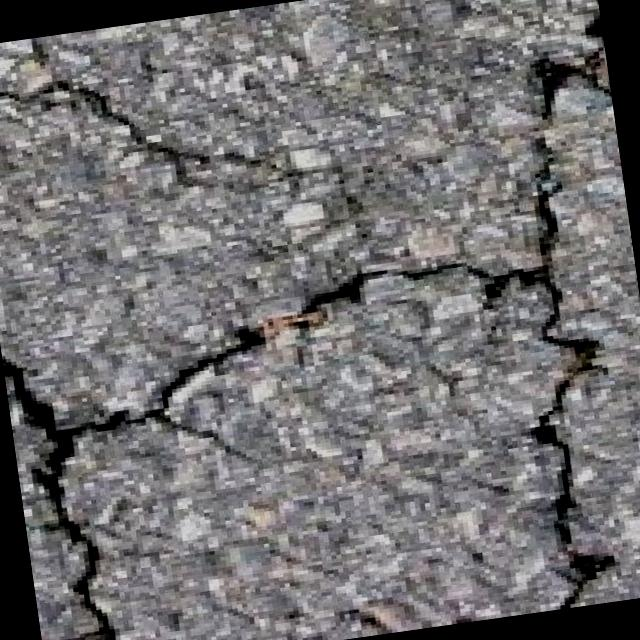crack: (56, 250, 538, 488), (482, 43, 640, 608), (0, 3, 306, 230), (5, 343, 146, 640)
